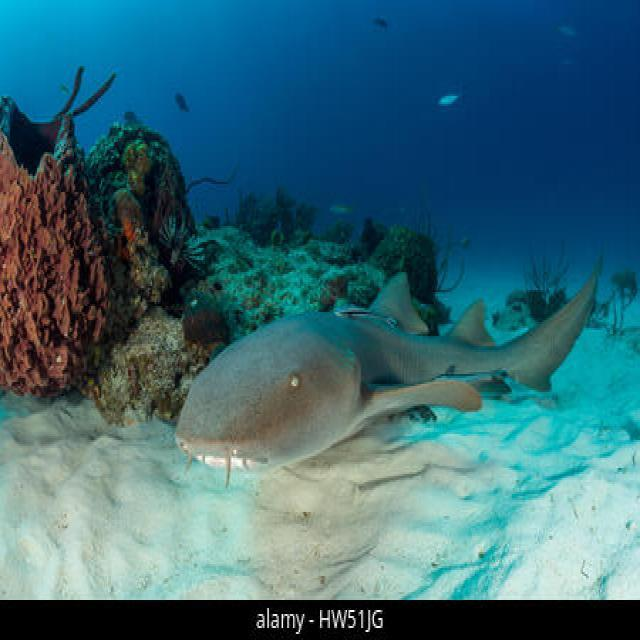Shark: (159, 222, 613, 478)
